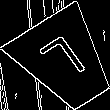L_SE: (37, 32, 94, 91)
